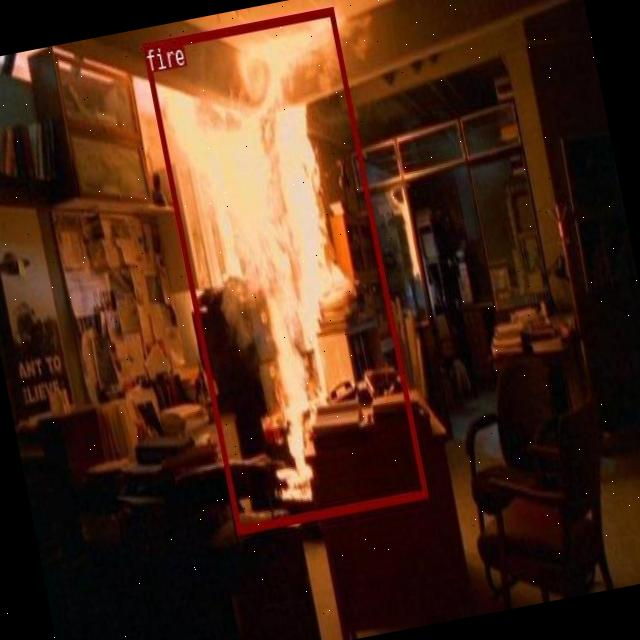fire: (142, 7, 427, 534)
